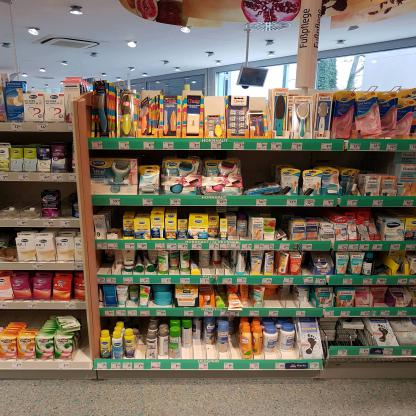Void: (1, 181, 35, 218), (247, 154, 272, 178), (59, 181, 70, 215), (366, 154, 384, 174)
